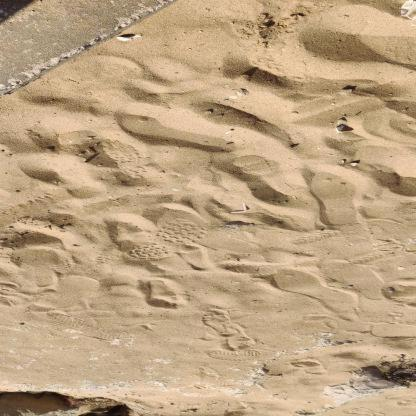Straw: (231, 204, 247, 213)
Unlabeled litter: (335, 122, 352, 134), (117, 35, 142, 41)
